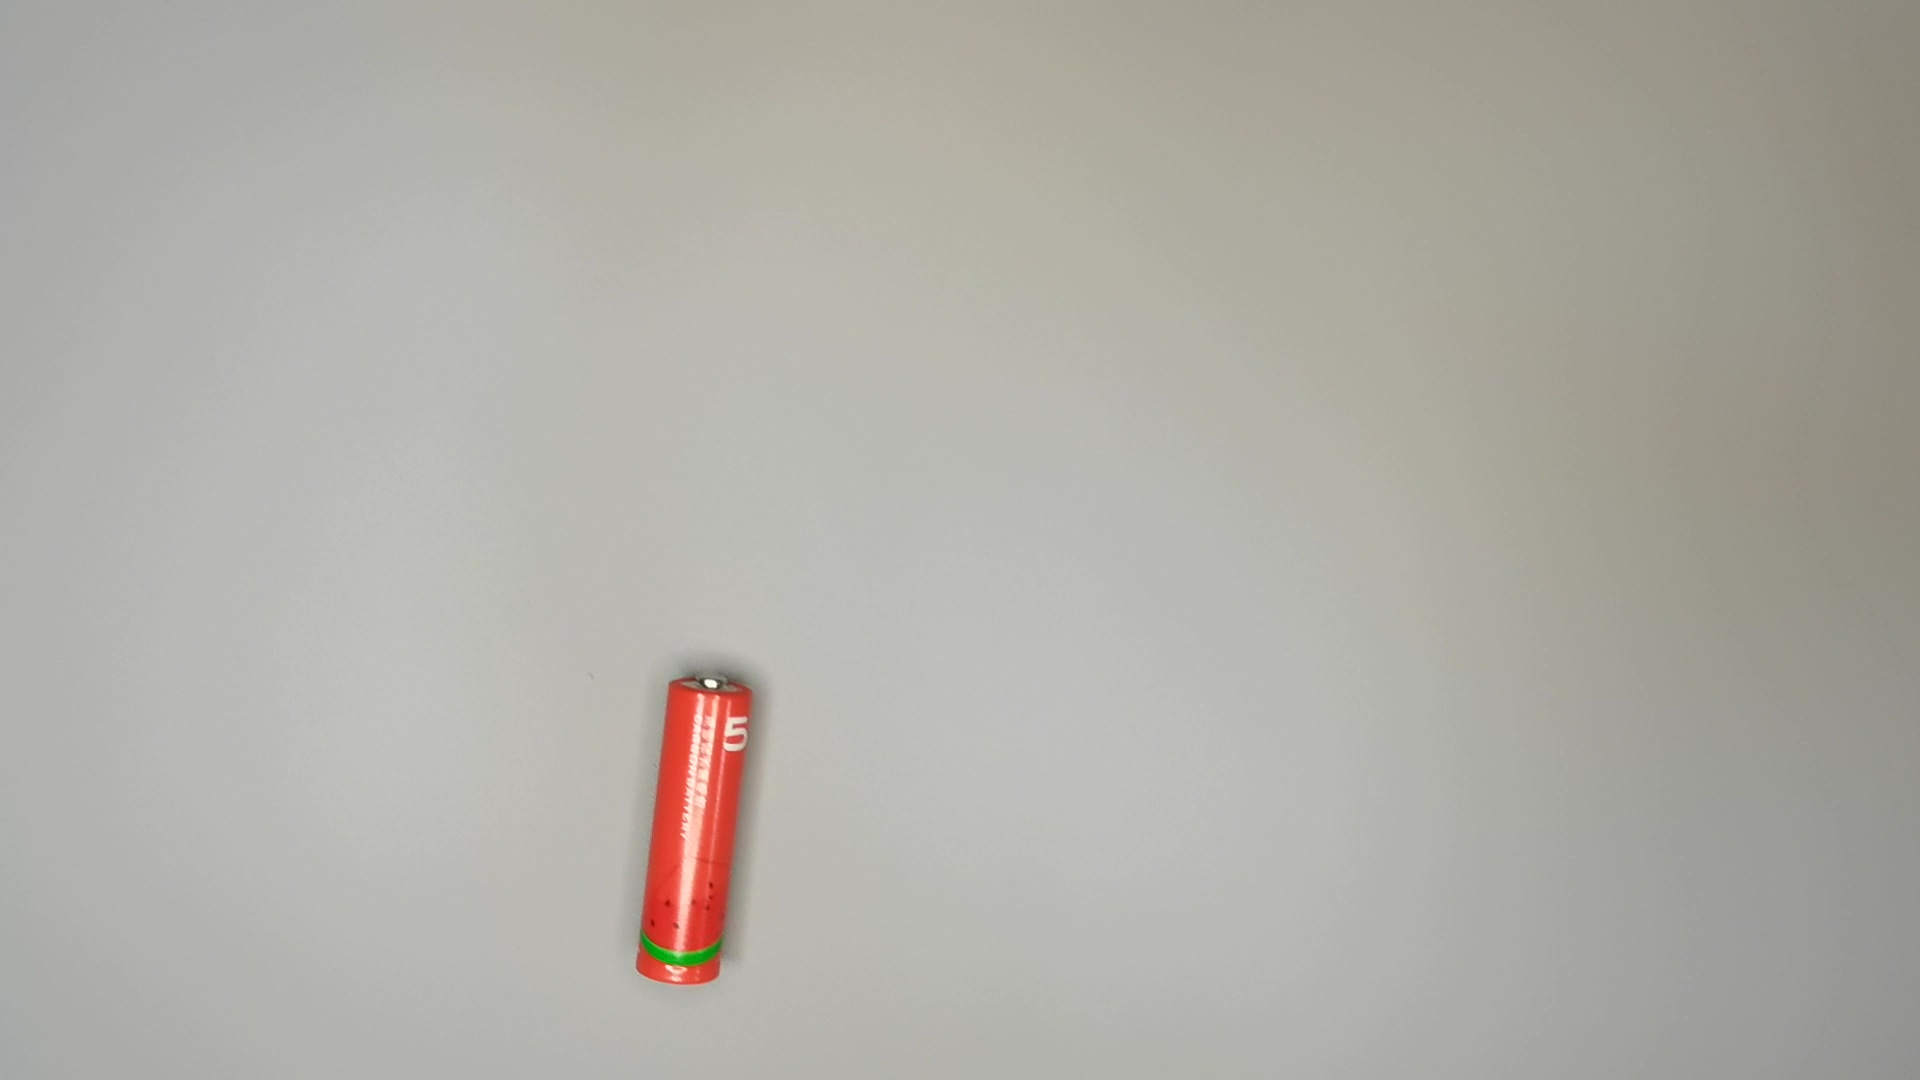battery: (626, 669, 754, 986)
